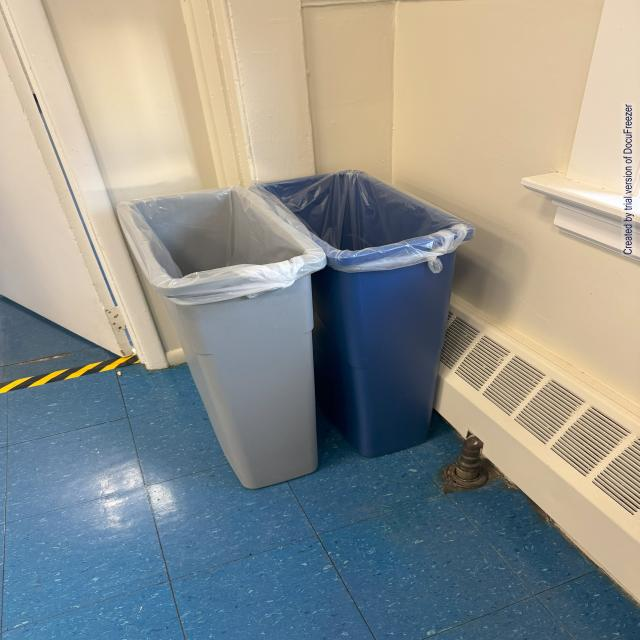Trash bin: (254, 175, 492, 481), (102, 187, 334, 496)
